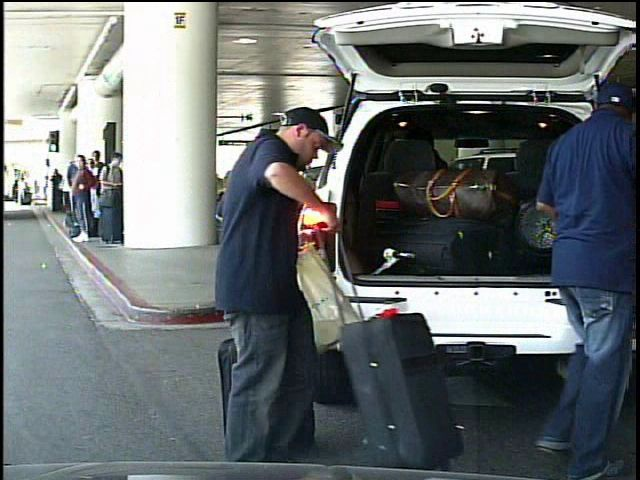person: (491, 78, 640, 480), (193, 96, 352, 468), (18, 176, 29, 207)
